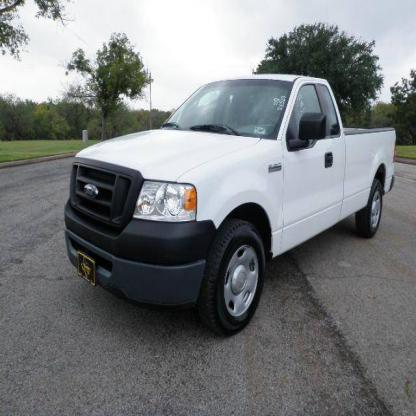Vehicle: (62, 73, 398, 339)
